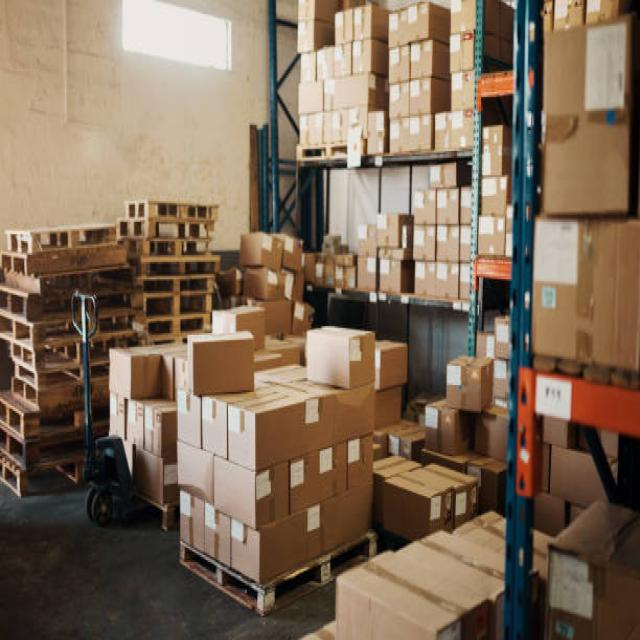Wooden-Pallets: (173, 529, 376, 619), (3, 218, 115, 260), (130, 283, 217, 325), (121, 195, 220, 231), (135, 243, 223, 279)
